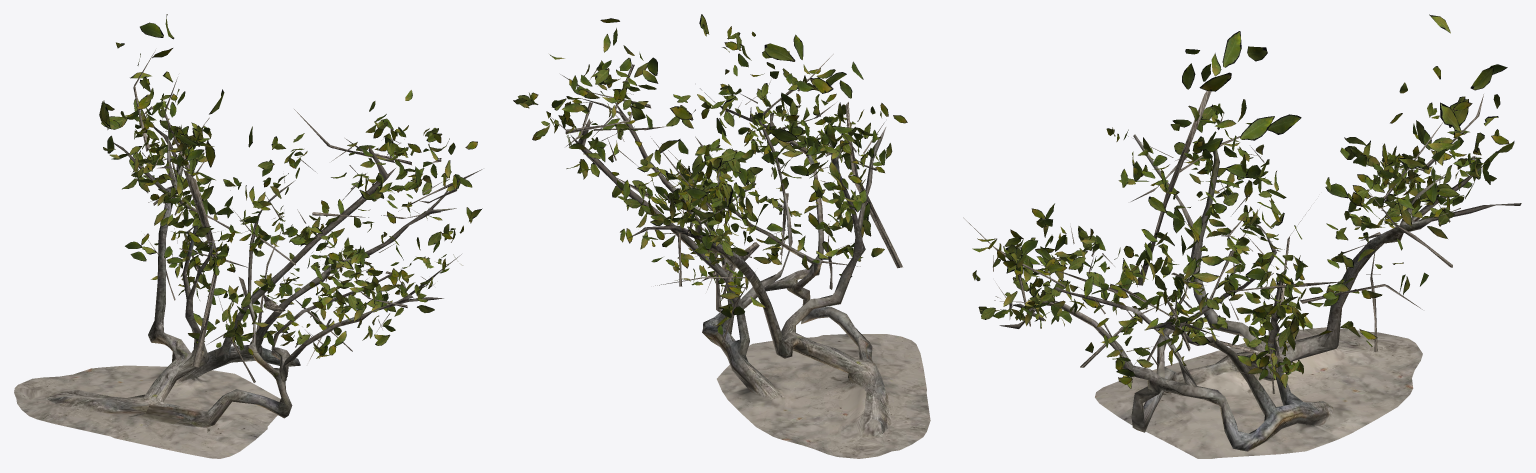
The model's file is island_tree_03_lod1.glb.
The picture shows the model from 3 angles, left to right: view 1: azimuth 30°, elevation 25°; view 2: azimuth 150°, elevation 25°; view 3: azimuth 270°, elevation 25°; orthographic projection. The views are drawn at different scales.
Parts seen in each view (by area): view 1: island_tree_03_LOD0.001, island_tree_03_LOD0.002, island_tree_03_LOD0; view 2: island_tree_03_LOD0.001, island_tree_03_LOD0.002, island_tree_03_LOD0; view 3: island_tree_03_LOD0.002, island_tree_03_LOD0.001, island_tree_03_LOD0.
Part boxes in pixels (left/top/right/bottom): island_tree_03_LOD0.001: left=14, top=125, right=461, bottom=458; island_tree_03_LOD0.002: left=99, top=14, right=482, bottom=358; island_tree_03_LOD0: left=130, top=50, right=482, bottom=382; island_tree_03_LOD0.001: left=571, top=88, right=930, bottom=458; island_tree_03_LOD0.002: left=513, top=14, right=907, bottom=335; island_tree_03_LOD0: left=547, top=54, right=902, bottom=342; island_tree_03_LOD0.002: left=972, top=14, right=1514, bottom=388; island_tree_03_LOD0.001: left=999, top=134, right=1521, bottom=458; island_tree_03_LOD0: left=963, top=91, right=1483, bottom=393.
Size of the model in its own units: 3 by 2.26 by 2.89.
Materials: 3 (3 with a texture image).
